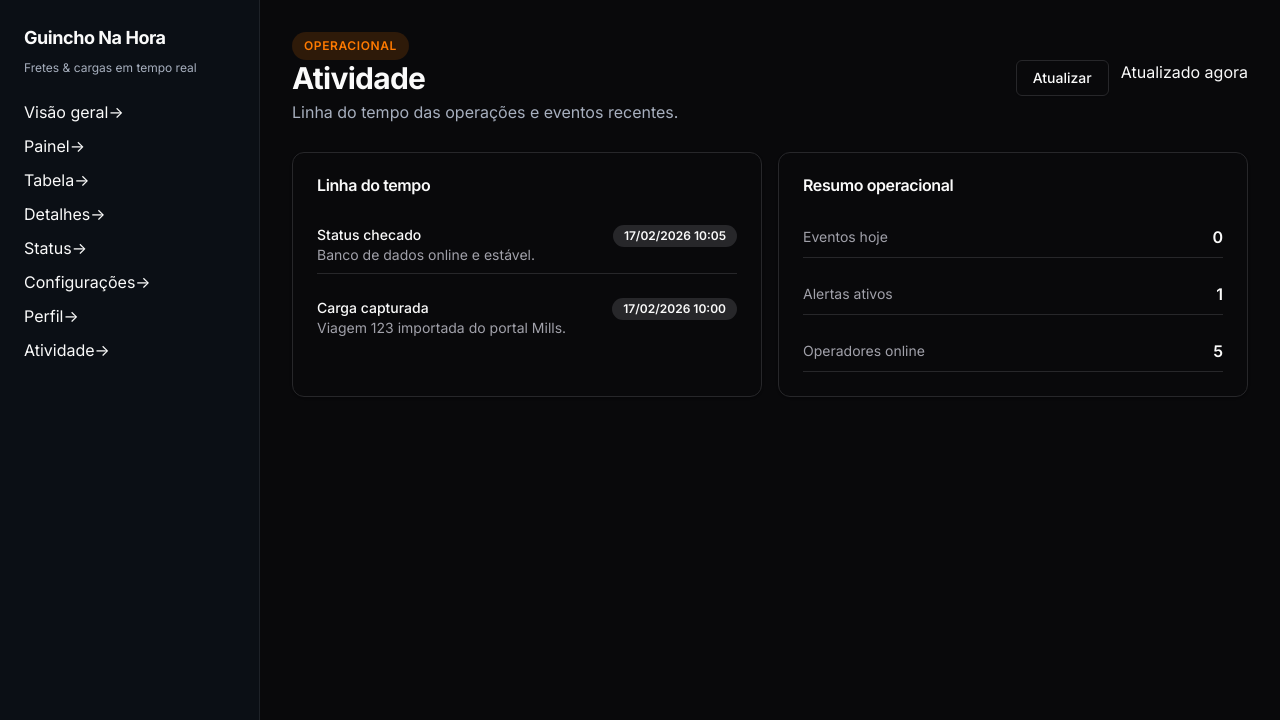
Test: Activity page › refresh feedback › shows success feedback after update
This screenshot has width=1280, height=720.
Click the button "Atualizar" at (1062, 78), box [1016,60,1109,96]
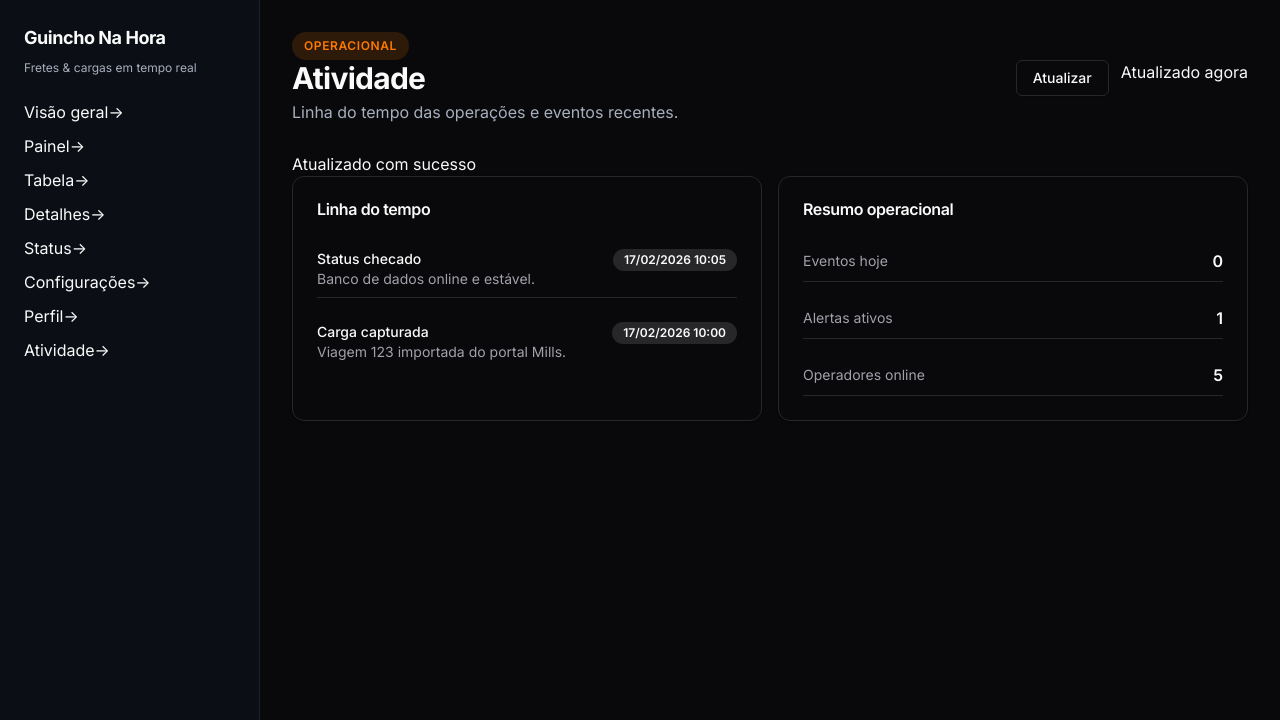
Expected: the text "Atualizado agora" is shown, [1121,62,1248,82]
Expected: the text "Atualizado com sucesso" is shown, [292,154,476,174]
